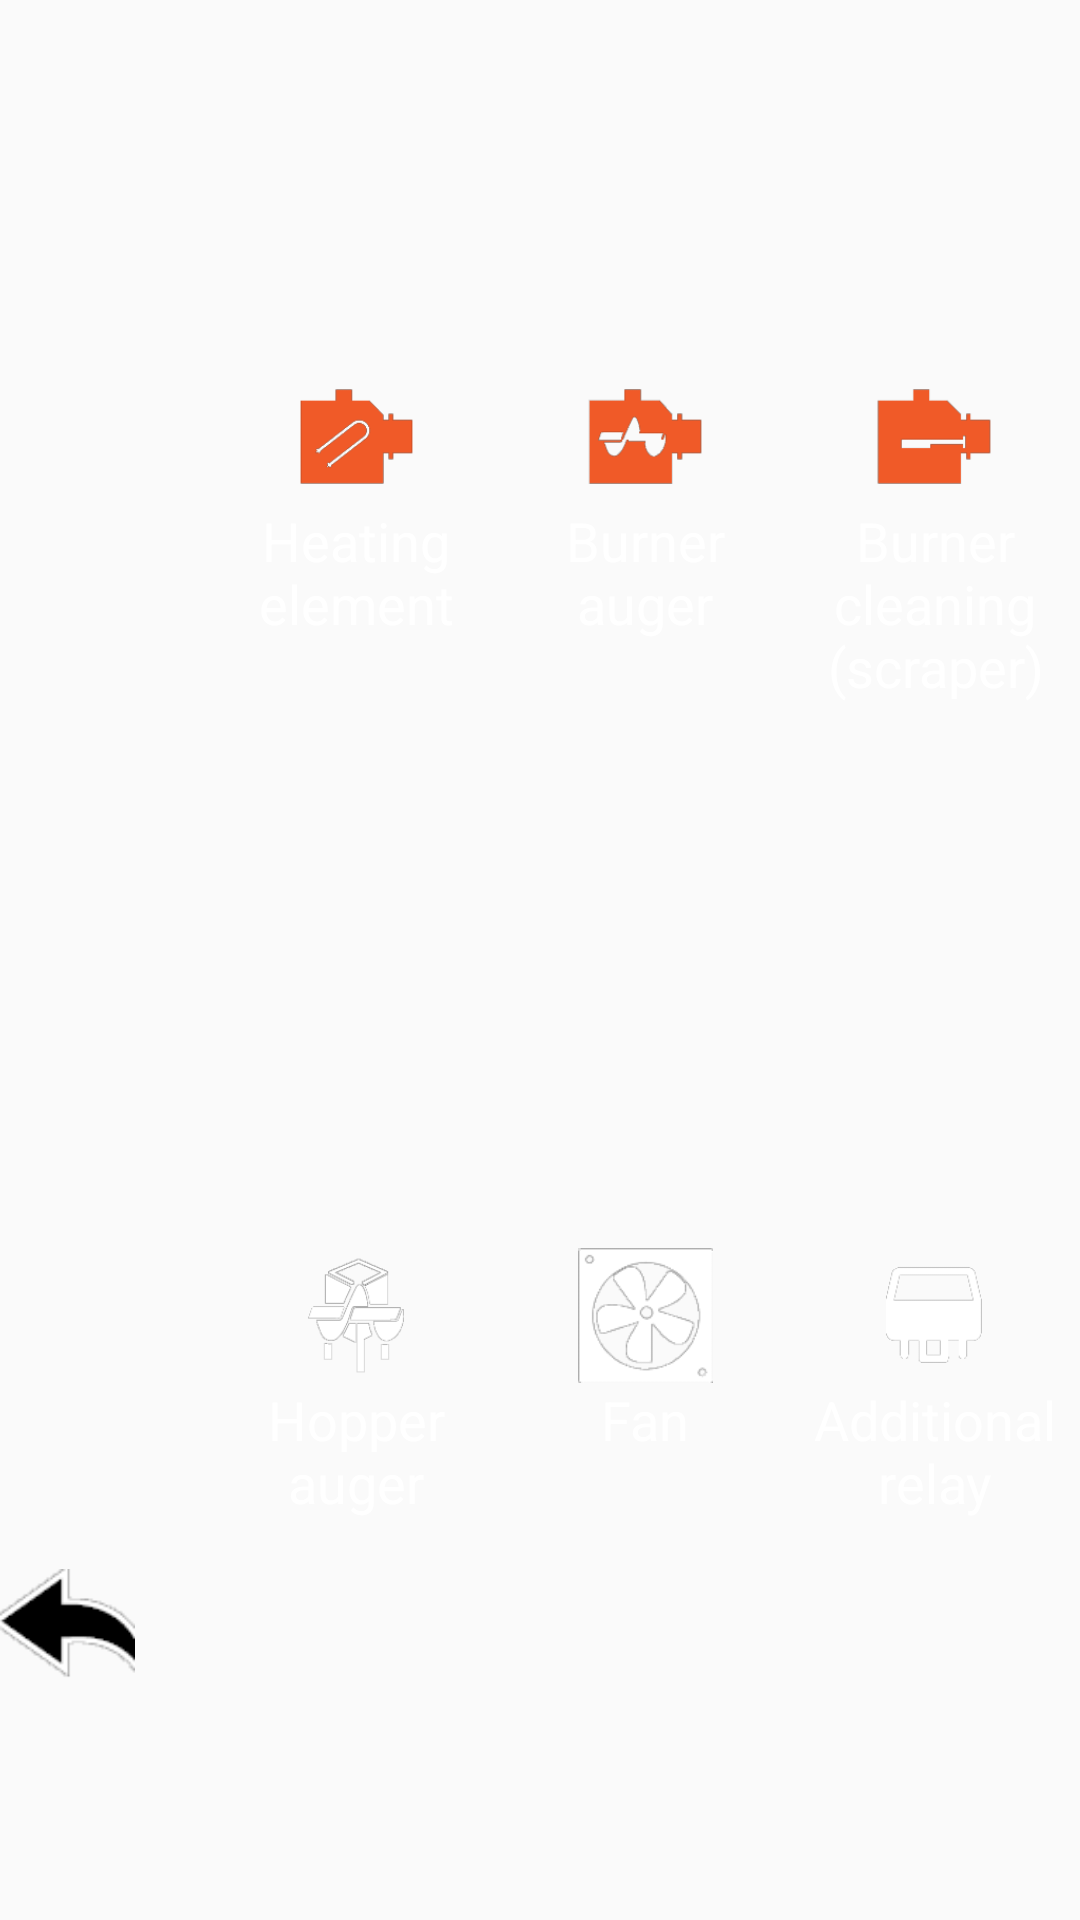

Named icons in this screenshot (1080px×1920px) and their centers, [x,y]:
addition relay: [934,1315]
back: [67,1623]
blow: [645,1315]
burner sugar: [645,436]
screw: [356,1315]
